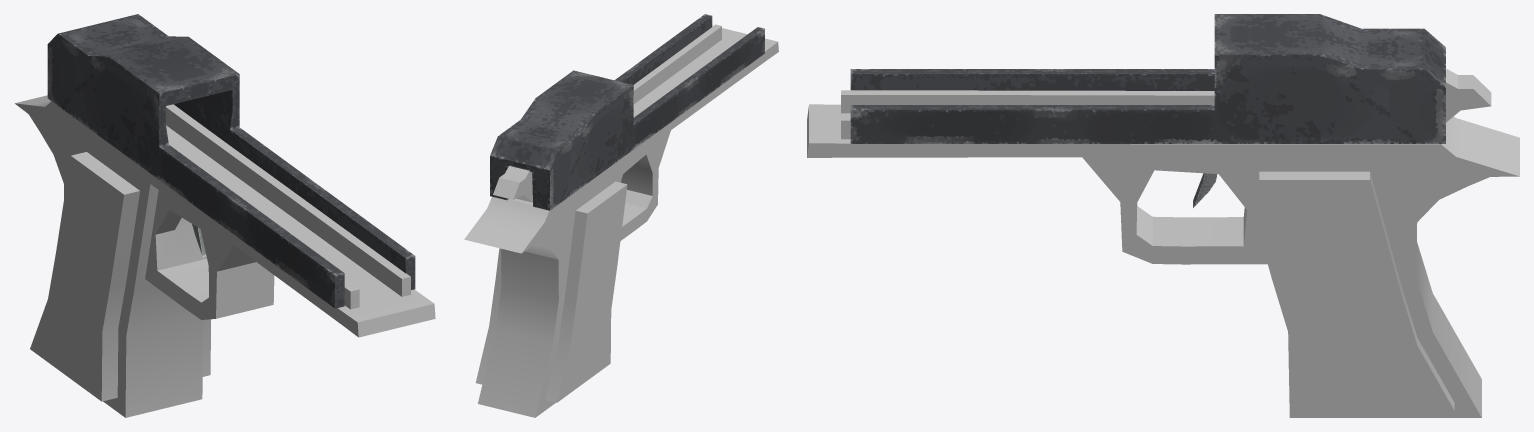
The model's file is Glock in the rari.fbx.
3 views of the same model, side by side, from view 1: azimuth 30°, elevation 25°; view 2: azimuth 150°, elevation 25°; view 3: azimuth 270°, elevation 25° (orthographic). The views are drawn at different scales.
Parts seen in each view (by area): view 1: Cube.066, Cube.067; view 2: Cube.066, Cube.067, Cube.075; view 3: Cube.066, Cube.067, Cube.075.
Boxes of the visible parts, x1,y1,x2,y2 form: Cube.066: (15,95,435,417); Cube.067: (47,14,415,308); Cube.066: (464,24,778,417); Cube.067: (490,14,764,210); Cube.075: (493,166,532,202); Cube.066: (807,90,1519,417); Cube.067: (850,14,1445,143); Cube.075: (1446,69,1491,122).
Size of the model in its own units: 37.03 by 114 by 203.
